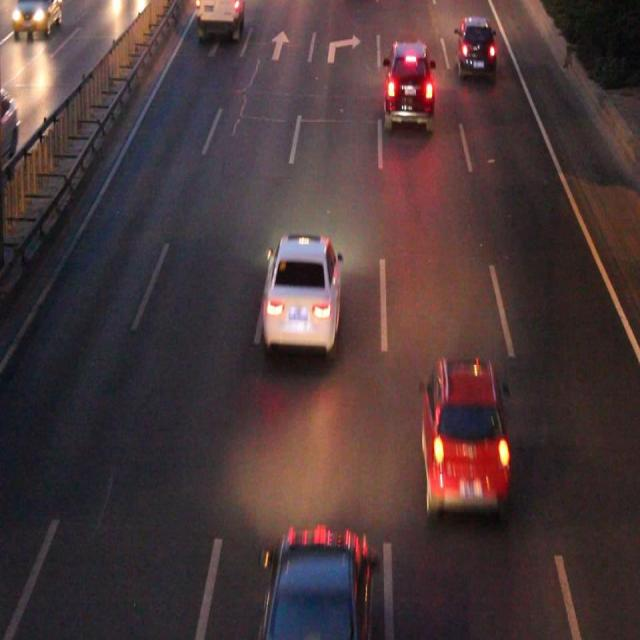car: (421, 362, 506, 508), (266, 531, 366, 640), (265, 235, 340, 342), (385, 42, 431, 124), (456, 18, 495, 76)
truck: (196, 1, 242, 30)
